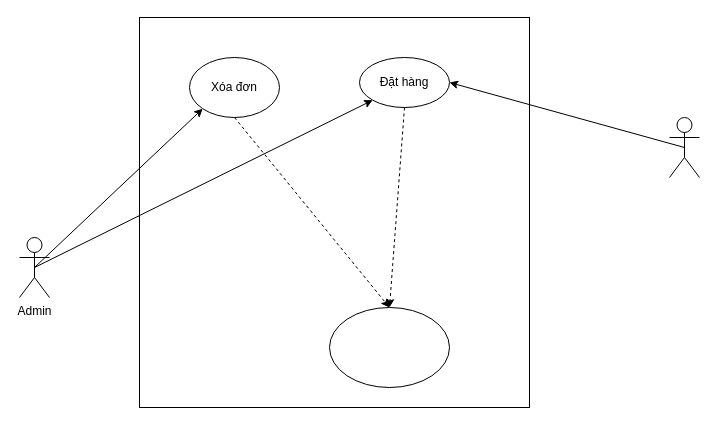
The diagram is 717 pixels wide and 425 high, and some of its shapes have lost their labels. The centre of each missing label's shape, as x and y in pixels:
"Quản lý đơn hàng" belongs at (x=389, y=347).
"User" belongs at (x=684, y=147).
